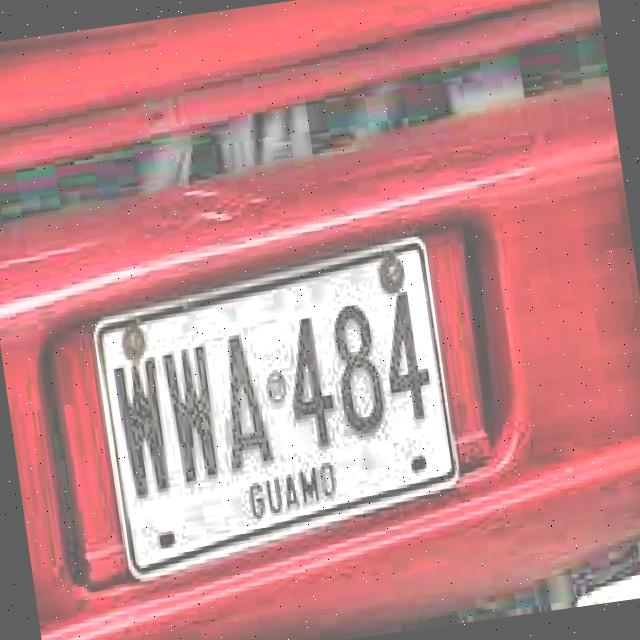4: (280, 313, 342, 454), (376, 288, 438, 429)
8: (323, 300, 393, 440)
A: (212, 331, 277, 474)
W: (108, 354, 180, 508), (158, 345, 229, 489)
